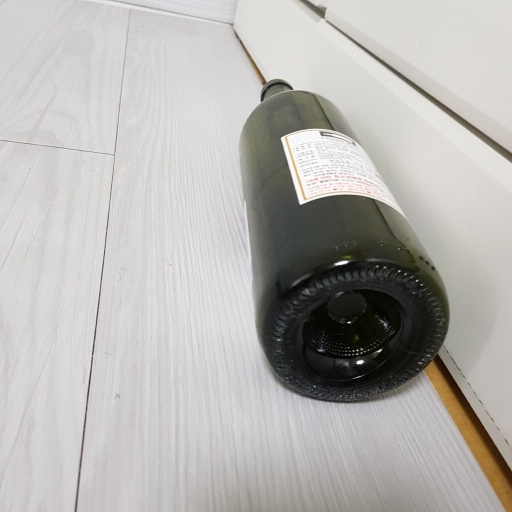Glass_2: (232, 71, 449, 410)
